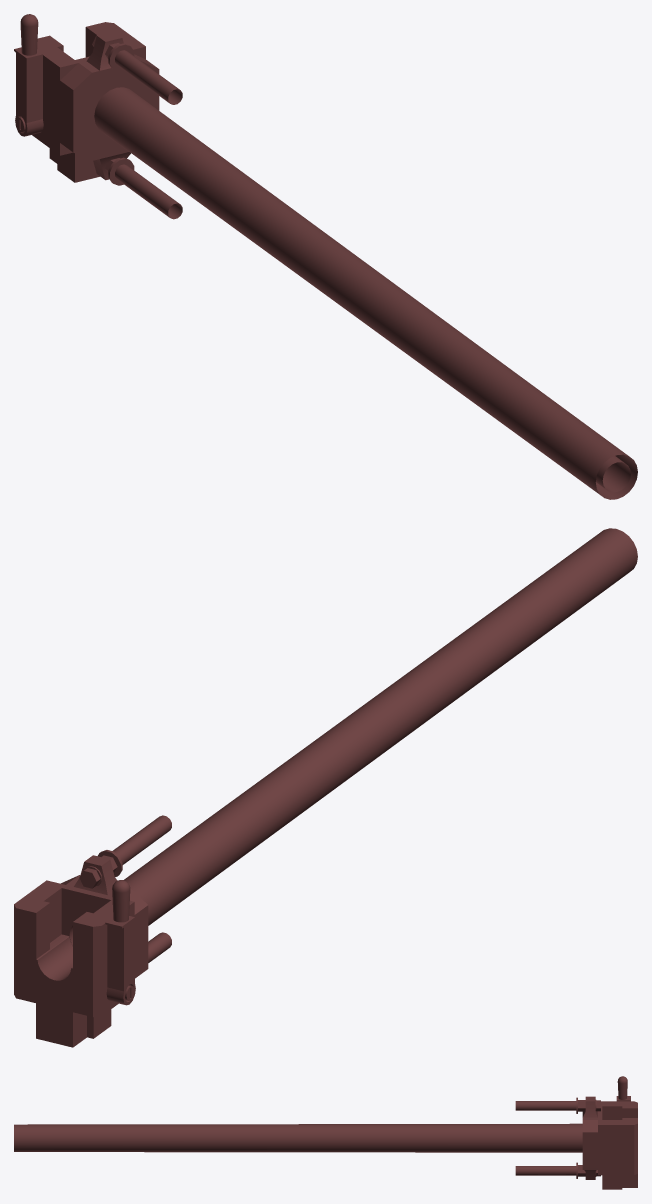
The model's file is Cannon_Piece.fbx.
3 views of the same model, one above another, from view 1: azimuth 30°, elevation 25°; view 2: azimuth 150°, elevation 25°; view 3: azimuth 270°, elevation 25° (orthographic). The views are drawn at different scales.
Parts seen in each view (by area): view 1: Outter_Barrel, Breach, Breach_Lever, Upper_Piton_Shaft, Upper_Piton_Shaft1, Breach_Block, Inner_Barrel; view 2: Outter_Barrel, Breach, Breach_Block, Breach_Lever, Upper_Piton_Shaft; view 3: Outter_Barrel, Breach, Upper_Piton_Shaft, Upper_Piton_Shaft1, Breach_Block, Breach_Lever.
Part boxes in pixels (left/top/right/bottom): Outter_Barrel: left=94, top=87, right=637, bottom=499; Breach: left=32, top=22, right=159, bottom=180; Breach_Lever: left=14, top=14, right=43, bottom=136; Upper_Piton_Shaft: left=92, top=33, right=182, bottom=104; Upper_Piton_Shaft1: left=105, top=157, right=182, bottom=219; Breach_Block: left=49, top=148, right=99, bottom=182; Inner_Barrel: left=596, top=456, right=630, bottom=492; Outter_Barrel: left=123, top=528, right=637, bottom=925; Breach: left=14, top=855, right=148, bottom=1016; Breach_Block: left=36, top=934, right=111, bottom=1047; Breach_Lever: left=105, top=880, right=135, bottom=1005; Upper_Piton_Shaft: left=79, top=815, right=171, bottom=888; Outter_Barrel: left=14, top=1123, right=582, bottom=1152; Breach: left=582, top=1096, right=637, bottom=1179; Upper_Piton_Shaft: left=515, top=1097, right=600, bottom=1113; Upper_Piton_Shaft1: left=515, top=1162, right=600, bottom=1178; Breach_Block: left=602, top=1174, right=637, bottom=1189; Breach_Lever: left=616, top=1076, right=630, bottom=1101.
Bounding box in the file's own units: 30.27 × 44.97 × 277.
